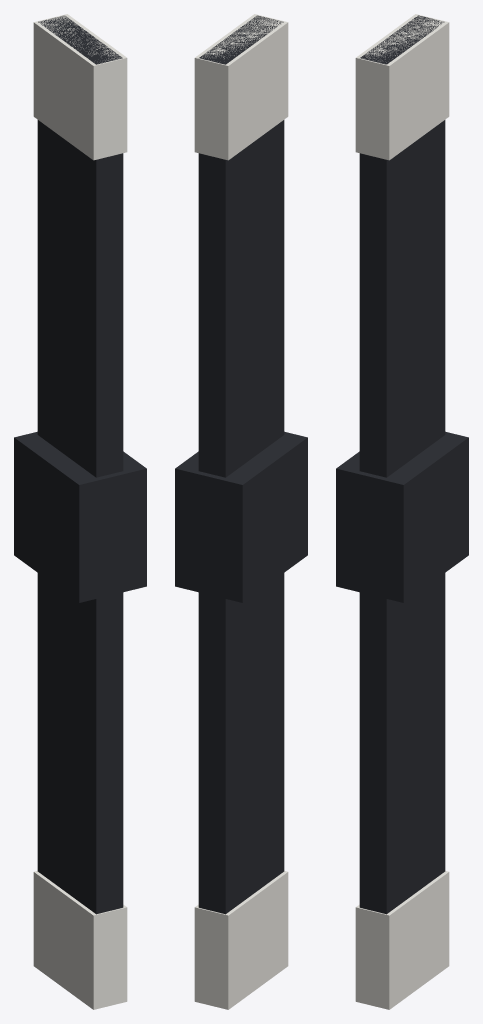
File: V_PoliceHeliTailRotor.fbx
3 renders of one model, left to right at view 1: azimuth 30°, elevation 25°; view 2: azimuth 150°, elevation 25°; view 3: azimuth 330°, elevation 25°, orthographic.
Parts seen in each view (by area): view 1: V_PoliceHeliTailRotor; view 2: V_PoliceHeliTailRotor; view 3: V_PoliceHeliTailRotor.
Boxes of the visible parts, box(x1,y1,x2,y2) form: V_PoliceHeliTailRotor: box(14, 14, 146, 1009); V_PoliceHeliTailRotor: box(175, 14, 307, 1009); V_PoliceHeliTailRotor: box(336, 14, 468, 1009).
Size of the model in its own units: 0.06 by 0.8 by 0.1.
